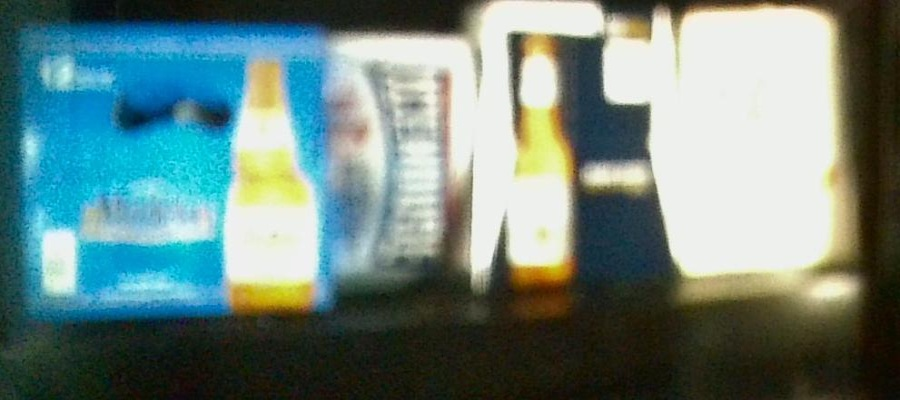bottle: (20, 22, 334, 314), (481, 2, 674, 283), (680, 9, 836, 276), (333, 23, 473, 284)
